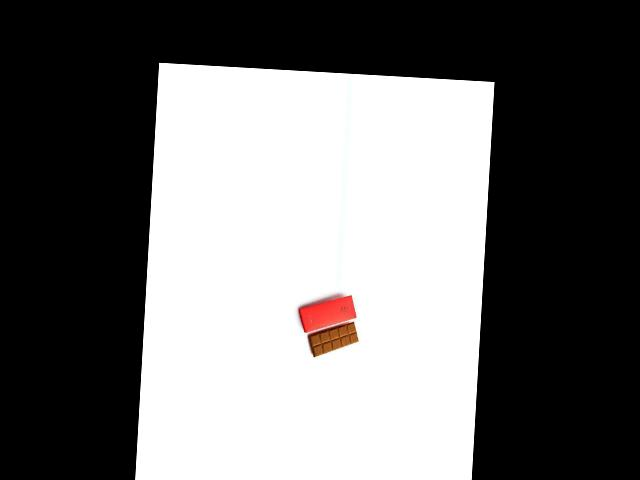chocolate: (304, 316, 360, 359)
